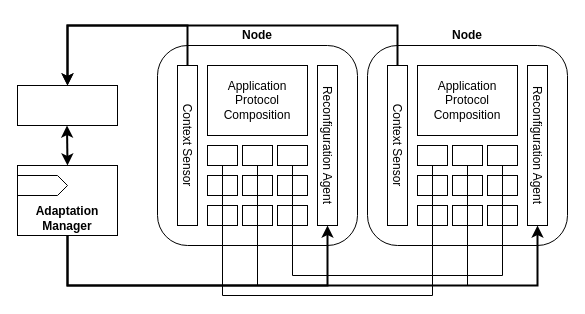
Some shapes in this 585 by 314 pixel diagram are drawn without their labels. The centre of each missing label's shape, as x and y in pixels:
"Context Monitor" belongs at point (67, 105).
"Policy" belongs at point (42, 185).
